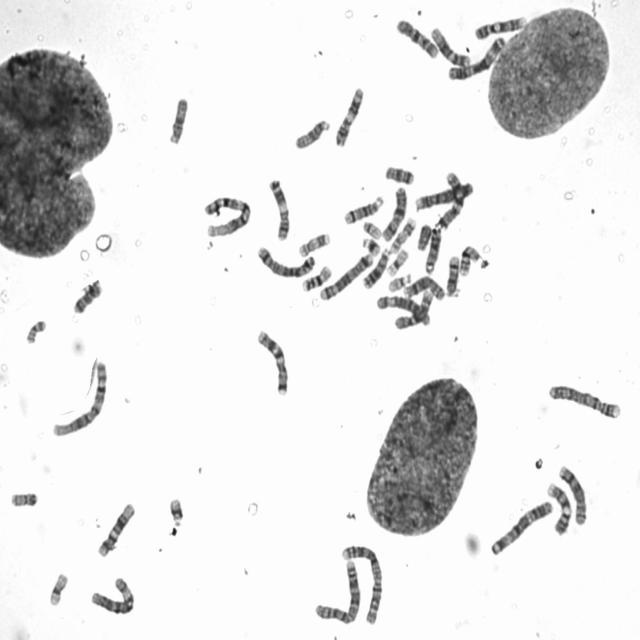A1: (48, 355, 109, 439), (200, 190, 252, 238)
A2: (337, 538, 385, 627), (311, 556, 362, 625)
A3: (487, 494, 555, 557), (444, 31, 508, 81)
B4: (545, 378, 623, 421), (412, 176, 476, 212)
B5: (317, 249, 375, 301), (254, 240, 316, 279)
C10: (393, 13, 440, 60), (391, 286, 435, 331)
C11: (332, 81, 366, 148), (265, 173, 291, 242)
C12: (94, 497, 136, 558), (428, 22, 472, 68)
C6: (373, 290, 432, 328), (86, 572, 136, 616)
C7: (253, 324, 290, 397), (435, 166, 465, 231)
C8: (555, 459, 589, 526), (400, 270, 447, 302)
C9: (471, 10, 528, 41), (543, 478, 573, 536)
D13: (359, 242, 391, 290), (422, 222, 442, 275)
D14: (340, 191, 385, 225), (443, 250, 461, 298)
D15: (292, 114, 332, 150), (165, 91, 190, 146)
E16: (299, 260, 334, 293), (456, 240, 484, 277)
E17: (388, 213, 418, 256), (294, 227, 331, 258)
E18: (70, 275, 104, 316), (381, 160, 416, 186)
F19: (46, 567, 70, 608), (384, 245, 410, 278)
F20: (22, 314, 48, 345), (6, 486, 40, 508)
G21: (165, 492, 185, 526), (359, 232, 382, 256)
G22: (385, 268, 412, 294), (359, 216, 383, 240)
X: (379, 182, 408, 242)
Y: (414, 219, 433, 252)
